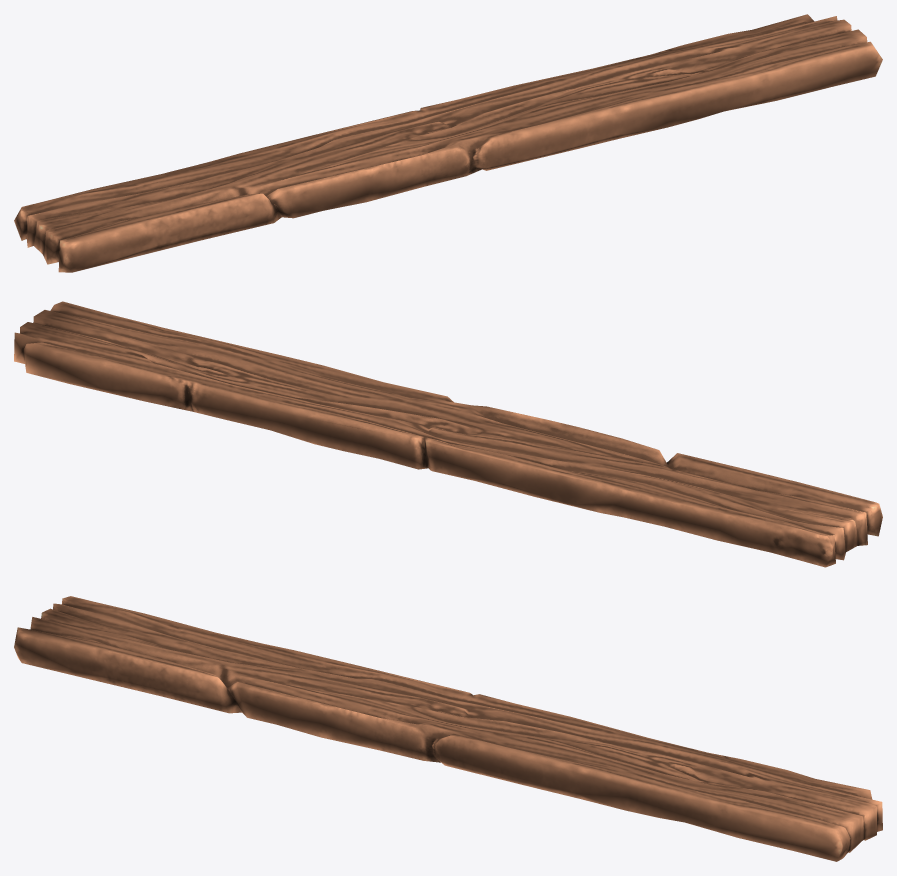
File: plank.obj
3 renders of one model, top to bottom at view 1: azimuth 30°, elevation 25°; view 2: azimuth 150°, elevation 25°; view 3: azimuth 330°, elevation 25°, orthographic.
Visible parts, largest first — view 1: plank_LQ_Cube.001; view 2: plank_LQ_Cube.001; view 3: plank_LQ_Cube.001.
Boxes of the visible parts, x1,y1,x2,y2 form: plank_LQ_Cube.001: [14, 14, 882, 272]; plank_LQ_Cube.001: [14, 301, 882, 567]; plank_LQ_Cube.001: [14, 596, 882, 861].
Bounding box in the file's own units: 4.5 × 0.1715 × 0.5.
